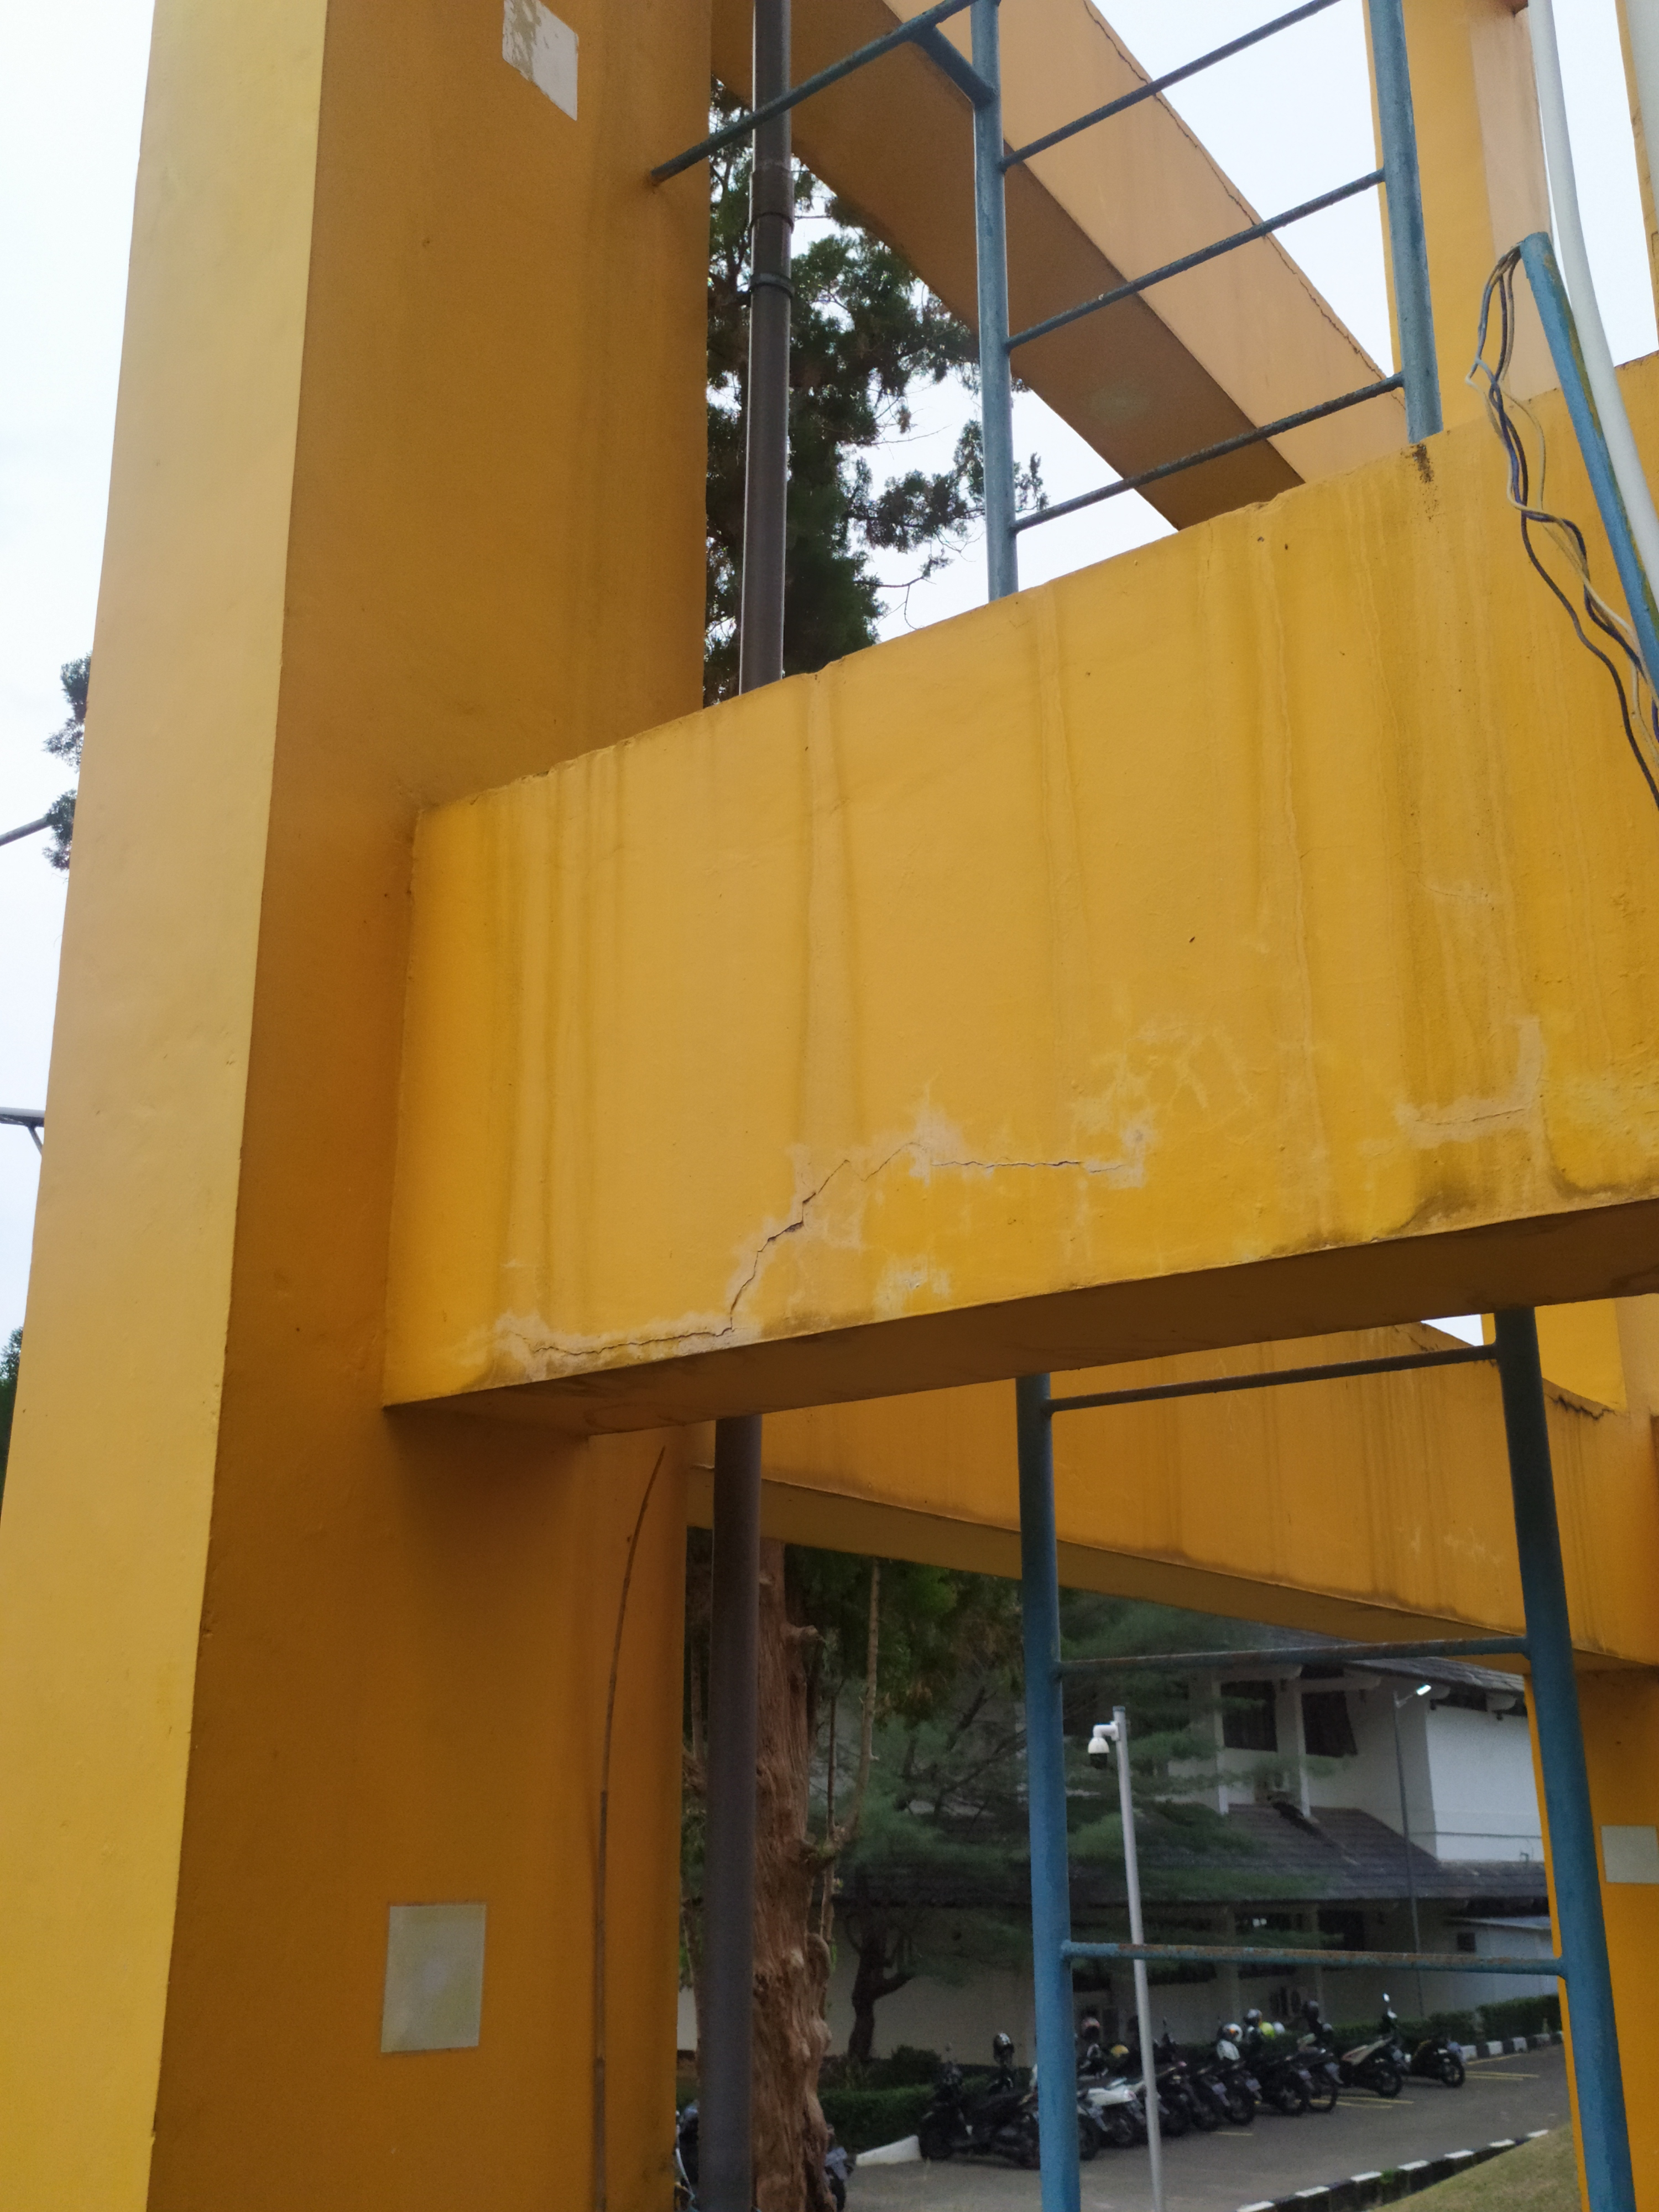crack: (502, 1123, 1141, 1366)
